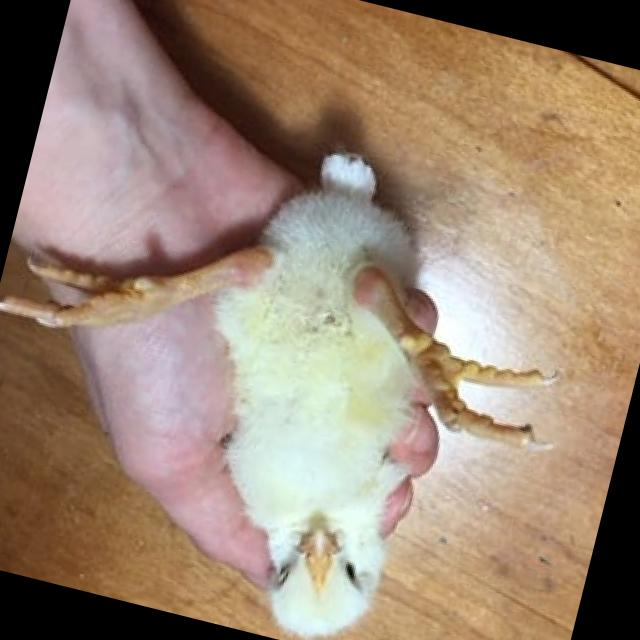abnormal chicken: (0, 70, 625, 640)
